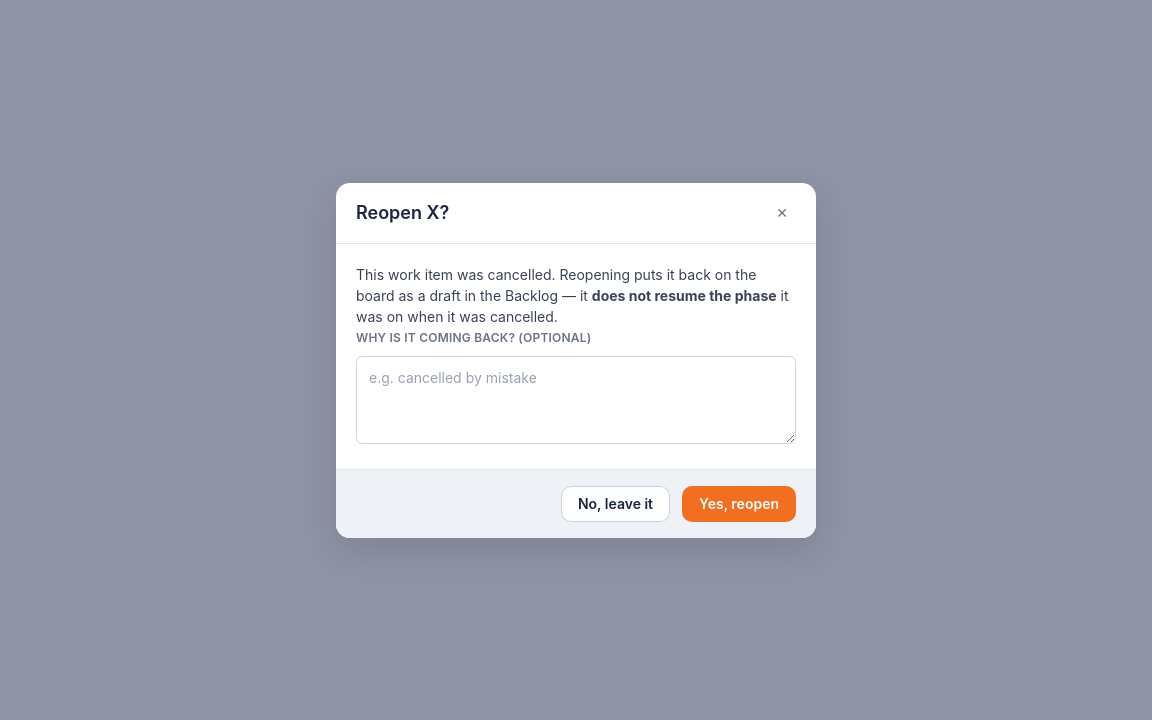
Test: the reopen dialog › does not close on a refusal, and puts the refusal on screen
Click the button "Yes, reopen" at (739, 504), box [682, 486, 796, 522]
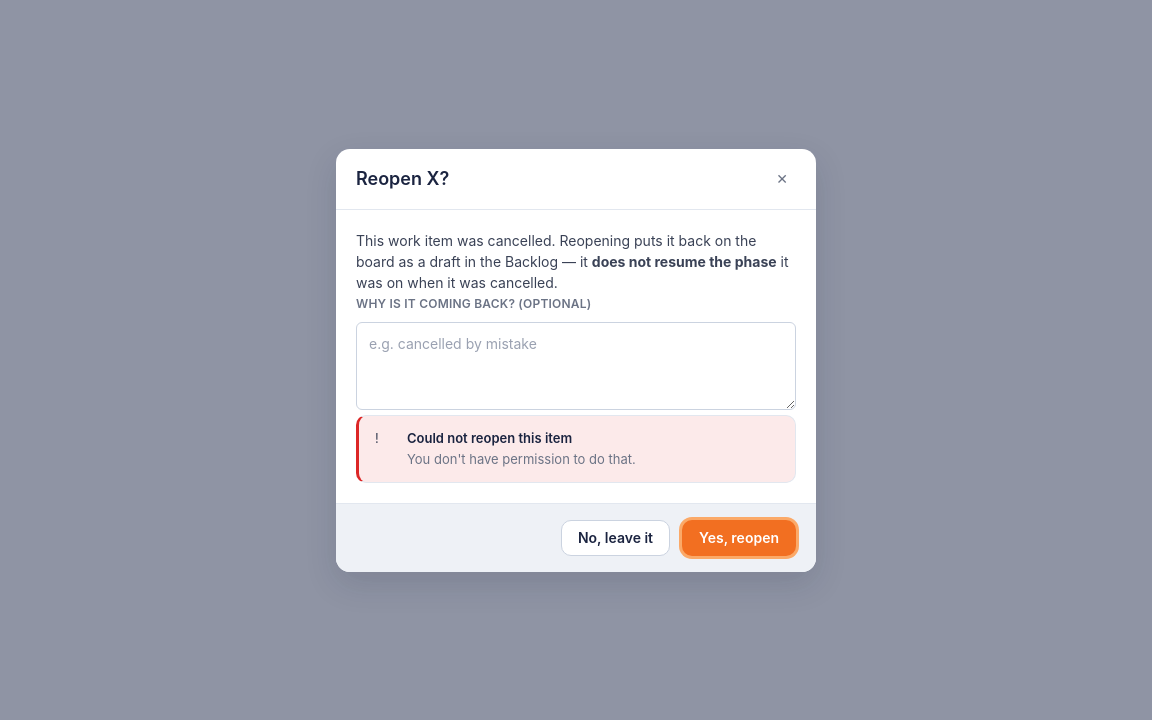
Check: the text "Could not reopen this item" is shown, box [407, 430, 572, 446]
